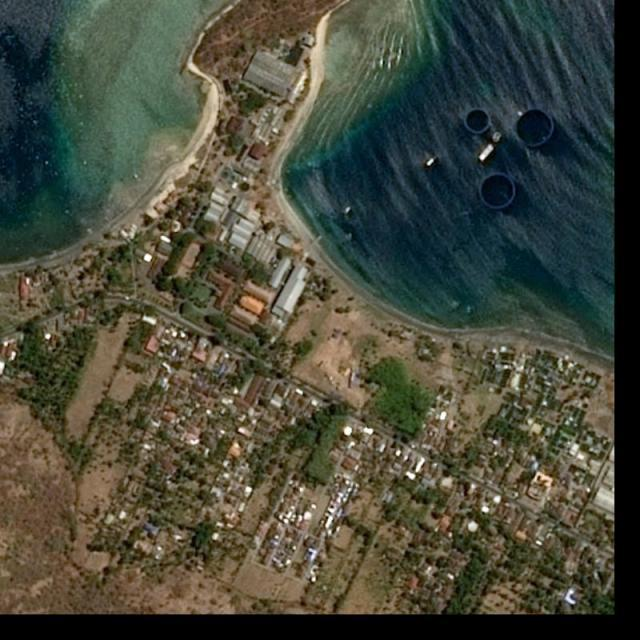ship: (424, 155, 438, 168), (343, 206, 354, 215)
